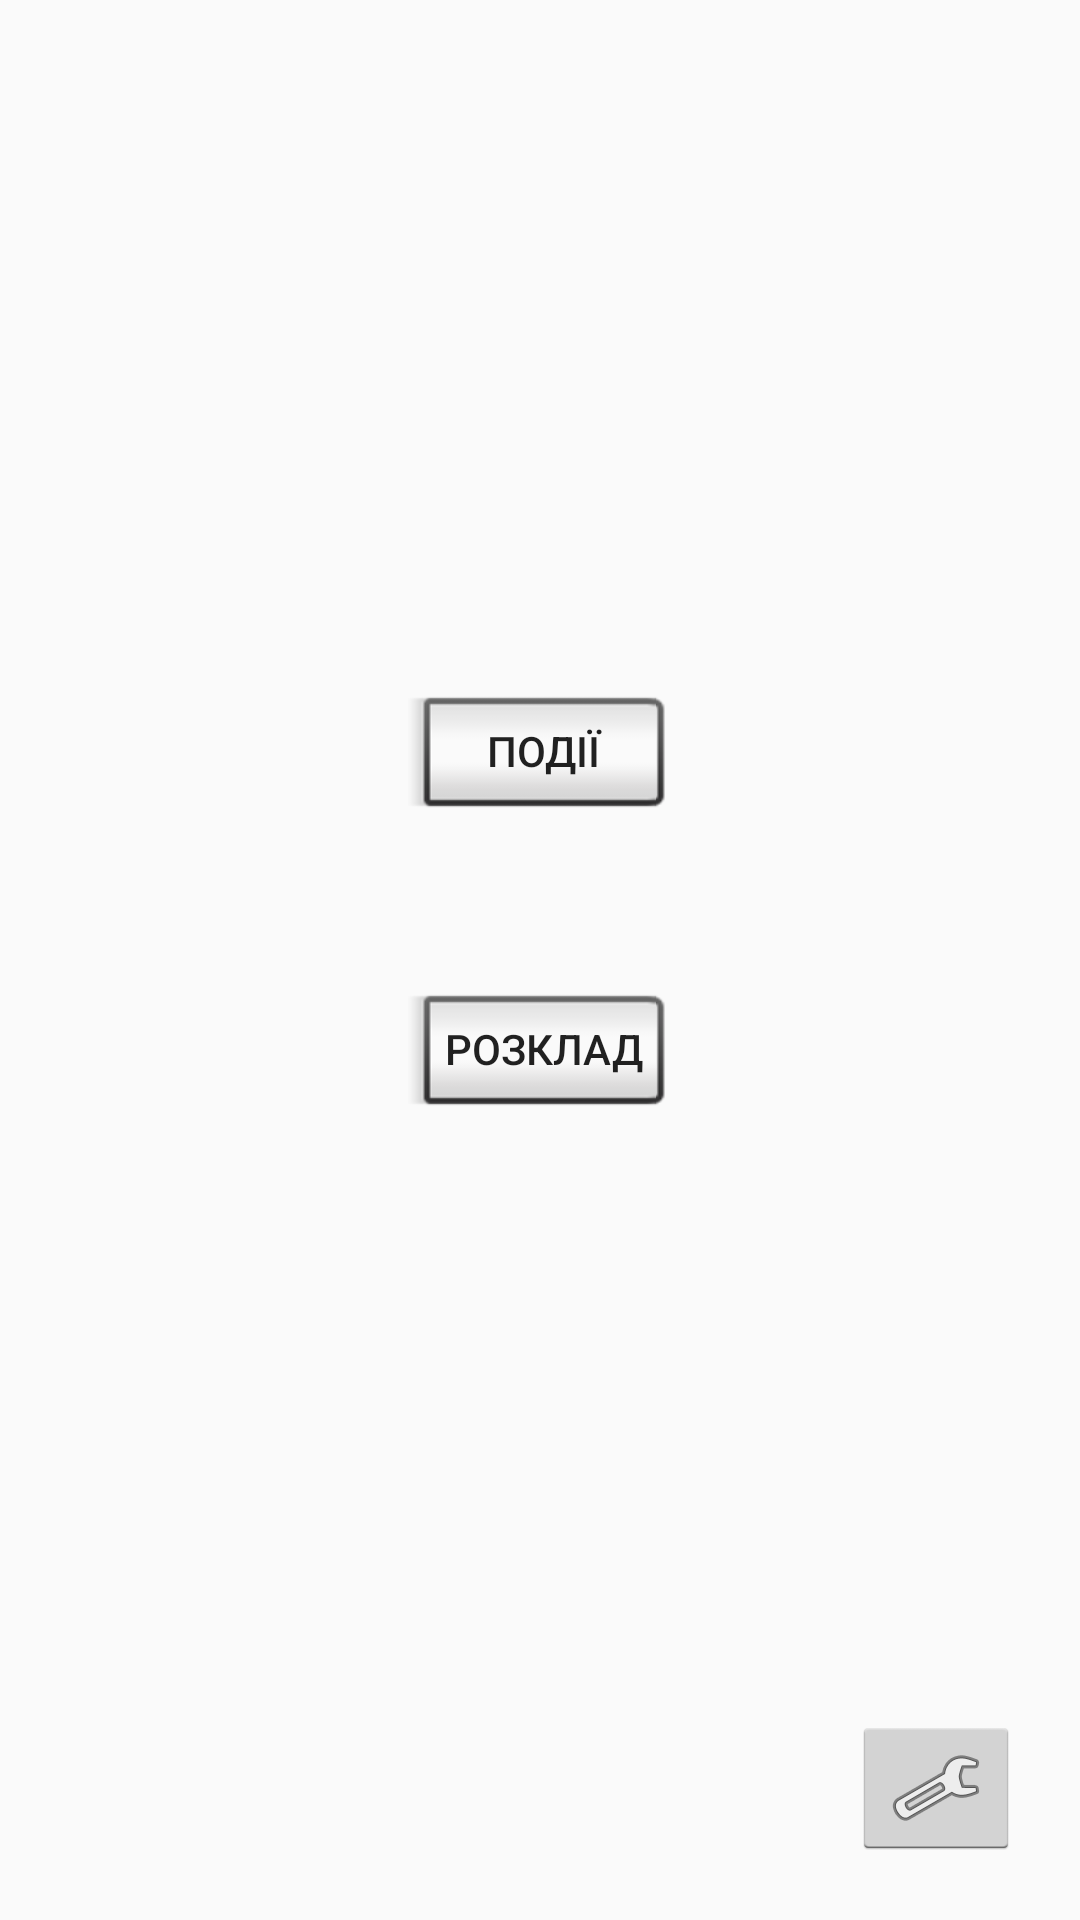

Locate icon controls on the screen. Image size 1080px x 1920px, boxes as (x1, y1, x2, y2).
preferences: (864, 1729, 1008, 1849)
